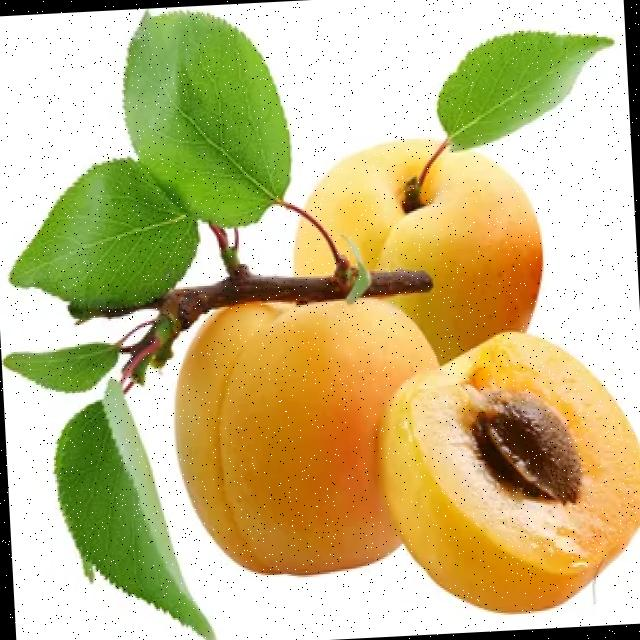Cekirdek: (470, 388, 582, 501)
Kayisi: (309, 138, 543, 362)
Yaprak: (125, 12, 291, 227)
